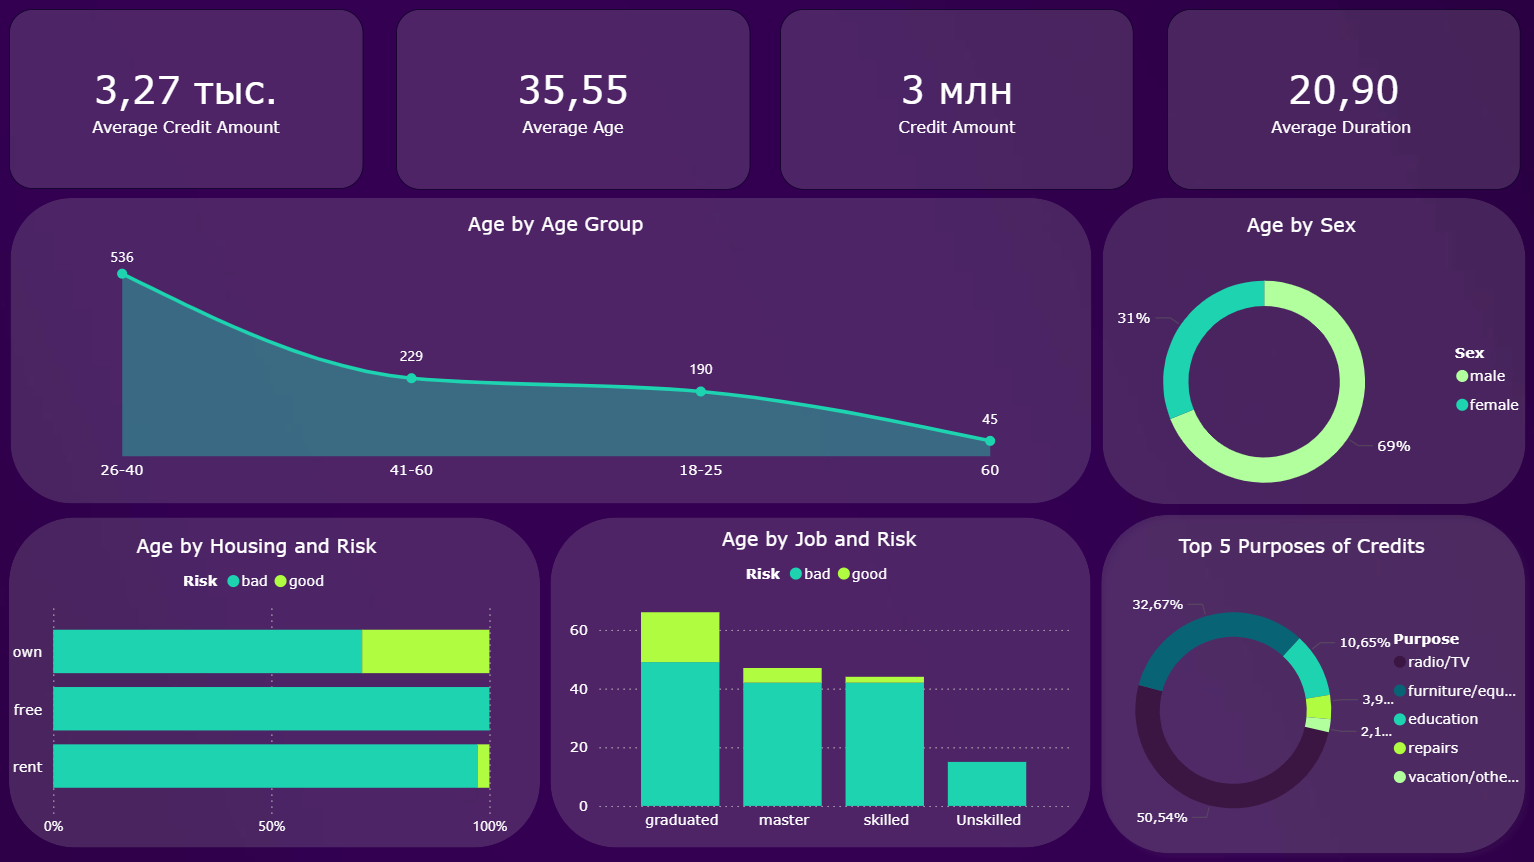

This screenshot's page, from the dashboard's own definition file:
{"tool":"powerbi","page":{"name":"Dashboard","canvas":[1280,720],"ordinal":2},"visuals":[{"type":"shape","box":[7.5,431.2,442.5,275],"z":0},{"type":"group","id":"g1","title":"Группа 1","box":[0,165,926.2,255],"z":1000},{"type":"shape","box":[458.8,431.2,450,275],"z":2000},{"type":"shape","box":[918.8,165,352.5,255],"z":3000},{"type":"shape","box":[8.8,165,900.9,254.6],"z":4000,"group":"g1"},{"type":"shape","box":[908.8,420,371.2,300],"z":4000},{"type":"areaChart","title":"Age by Age Group","fields":{"Category":["final_data.Age group"],"Y":["CountNonNull(final_data.Age)"]},"box":[0,176.2,926.2,232.6],"z":5000,"group":"g1"},{"type":"donutChart","title":"Age by Sex","fields":{"Category":["final_data.Sex"],"Y":["CountNonNull(final_data.Age)"]},"box":[888.6,177.3,391.8,261.2],"z":5000},{"type":"donutChart","title":"Top 5 Purposes of Credits","fields":{"Category":["final_data.Purpose"],"Y":["final_data.total customers"]},"box":[888.2,445.3,392.3,273.8],"z":6000},{"type":"hundredPercentStackedBarChart","title":"Age by Housing and Risk","fields":{"Category":["final_data.Housing"],"Y":["Count(final_data.Age)"],"Series":["final_data.Risk"]},"box":[0,445,427.5,261.2],"z":7000},{"type":"columnChart","title":"Age by Job and Risk","fields":{"Category":["final_data.Job"],"Y":["Count(final_data.Age)"],"Series":["final_data.Risk"]},"box":[468.7,439.1,428,261.5],"z":8000},{"type":"card","fields":{"Values":["Avg(final_data.Age)"]},"box":[330.6,7.4,295,150.5],"z":9000},{"type":"card","fields":{"Values":["Sum(final_data.Credit_amount)"]},"box":[650.1,7.4,294.8,150.5],"z":10000},{"type":"card","fields":{"Values":["final_data.average duration"]},"box":[972,7.4,294.8,150.5],"z":11000},{"type":"card","fields":{"Values":["final_data.average credit amount"]},"box":[7.5,7.5,295,150],"z":12000}]}

Visuals, with their boxes in screenshot pixels (x1, y1, x2, y2), scaled from the page's 1280x720 canvas onto the 1534x862 screenshot:
shape: bbox(9, 516, 539, 845)
"Группа 1" group: bbox(0, 198, 1110, 503)
shape: bbox(550, 516, 1089, 845)
shape: bbox(1101, 198, 1524, 503)
shape: bbox(11, 198, 1090, 502)
shape: bbox(1089, 503, 1533, 861)
"Age by Age Group" areaChart: bbox(0, 211, 1110, 489)
"Age by Sex" donutChart: bbox(1065, 212, 1533, 525)
"Top 5 Purposes of Credits" donutChart: bbox(1064, 533, 1533, 861)
"Age by Housing and Risk" hundredPercentStackedBarChart: bbox(0, 533, 512, 845)
"Age by Job and Risk" columnChart: bbox(562, 526, 1075, 839)
card - Avg(final_data.Age): bbox(396, 9, 750, 189)
card - Sum(final_data.Credit_amount): bbox(779, 9, 1132, 189)
card - final_data.average duration: bbox(1165, 9, 1518, 189)
card - final_data.average credit amount: bbox(9, 9, 363, 189)
